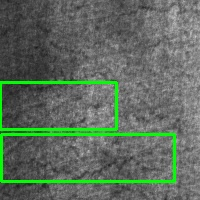crazing: (1, 134, 174, 181), (1, 82, 116, 129)
